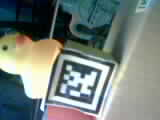duck: (4, 21, 61, 98)
